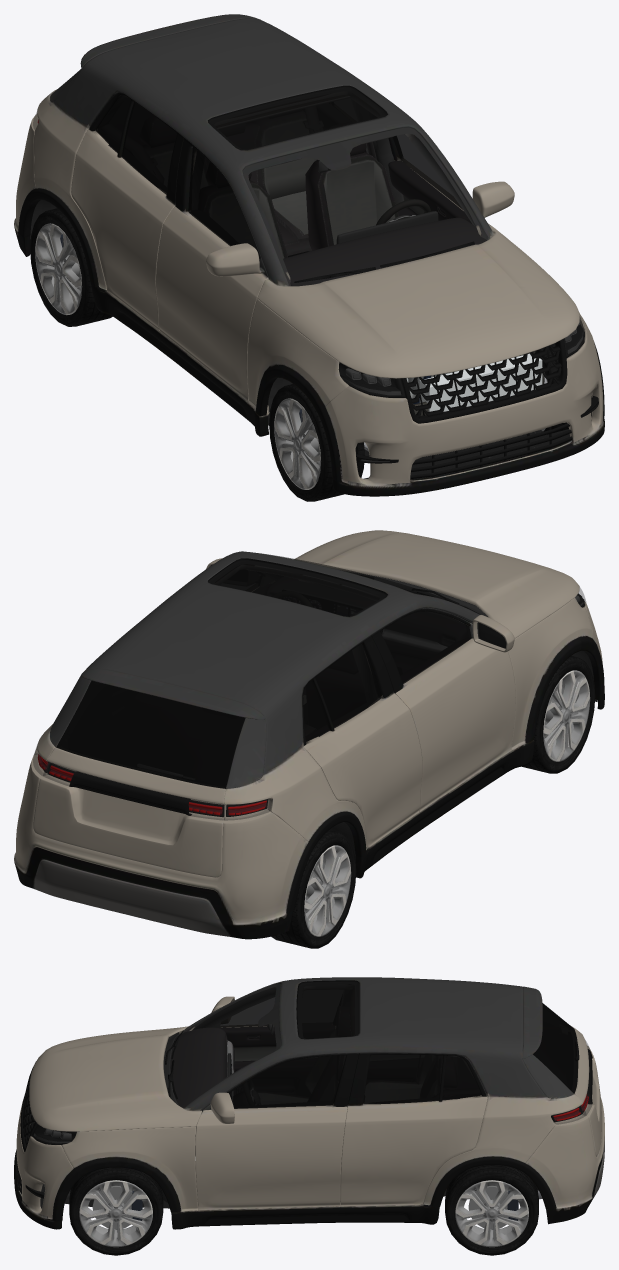
File: suv.glb
3 views of the same model, one above another, from view 1: azimuth 30°, elevation 25°; view 2: azimuth 150°, elevation 25°; view 3: azimuth 270°, elevation 25° (orthographic). The views are drawn at different scales.
Visible parts, largest first — view 1: chassis-sunroof, hood, glass-windshield, bumper-front, door-front-right, door-rear-right, dashboard, seat-rear, glass-sunroof, seat-front-left, fender-front-right, front-grille (+25 smaller); view 2: chassis-sunroof, bumper-rear, trunk, door-front-right, hood, glass-rear, door-rear-right, glass-sunroof, dashboard, fender-front-right, glass-door-front-right, glass-door-rear-right (+18 smaller); view 3: chassis-sunroof, door-front-left, door-rear-left, hood, glass-windshield, fender-front-left, bumper-rear, glass-door-front-left, dashboard, glass-door-rear-left, glass-sunroof, bumper-front (+28 smaller).
Boxes of the visible parts, x1,y1,x2,y2 form: chassis-sunroof: (34, 18, 493, 436); hood: (257, 225, 579, 378); glass-windshield: (243, 127, 487, 285); bumper-front: (325, 328, 604, 496); door-front-right: (155, 137, 268, 401); door-rear-right: (71, 92, 183, 331); dashboard: (283, 211, 486, 286); seat-rear: (131, 110, 322, 255); glass-sunroof: (208, 85, 387, 150); seat-front-left: (305, 122, 398, 250); fender-front-right: (247, 298, 349, 410); front-grille: (408, 345, 561, 418); chassis-sunroof: (34, 551, 534, 878); bumper-rear: (14, 754, 308, 939); trunk: (33, 747, 225, 877); door-front-right: (371, 607, 515, 811); hood: (294, 530, 579, 638); glass-rear: (56, 680, 245, 788); door-rear-right: (302, 635, 422, 847); glass-sunroof: (208, 558, 387, 616); dashboard: (266, 577, 467, 668); fender-front-right: (508, 597, 592, 750); glass-door-front-right: (380, 611, 471, 683); glass-door-rear-right: (315, 643, 380, 728); chassis-sunroof: (171, 977, 582, 1229); door-front-left: (195, 1053, 358, 1210); door-rear-left: (340, 1053, 487, 1206); hood: (29, 1026, 201, 1131); glass-windshield: (170, 983, 280, 1107); fender-front-left: (61, 1126, 198, 1211); bumper-rear: (525, 1045, 604, 1224); glass-door-front-left: (229, 1055, 345, 1108); dashboard: (170, 1027, 239, 1150); glass-door-rear-left: (363, 1054, 443, 1104); glass-sunroof: (296, 980, 359, 1039); bumper-front: (14, 1100, 73, 1229).
Bounding box in the file's own units: 1.95 × 1.56 × 4.19.
16 materials, 6 textured.
